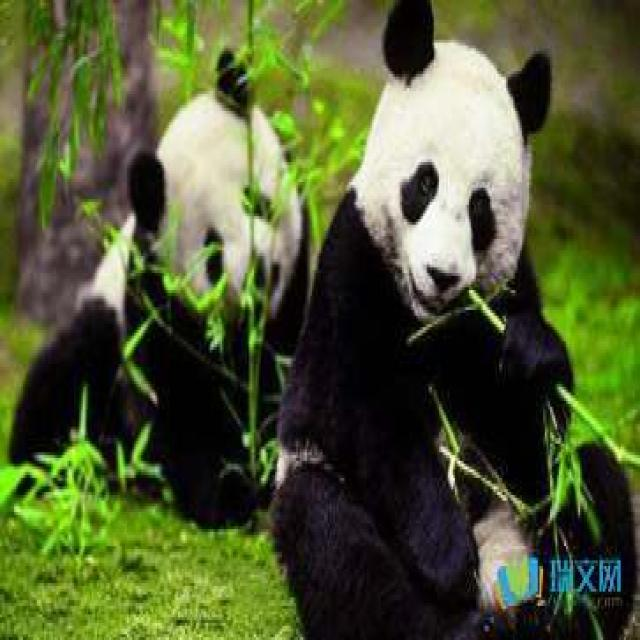panda: (317, 22, 597, 510), (20, 54, 292, 494)
